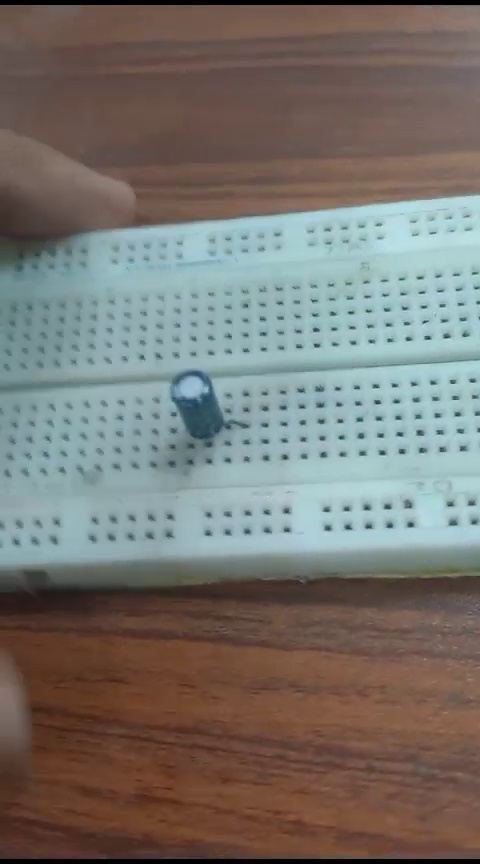capacitor: (162, 368, 228, 451)
